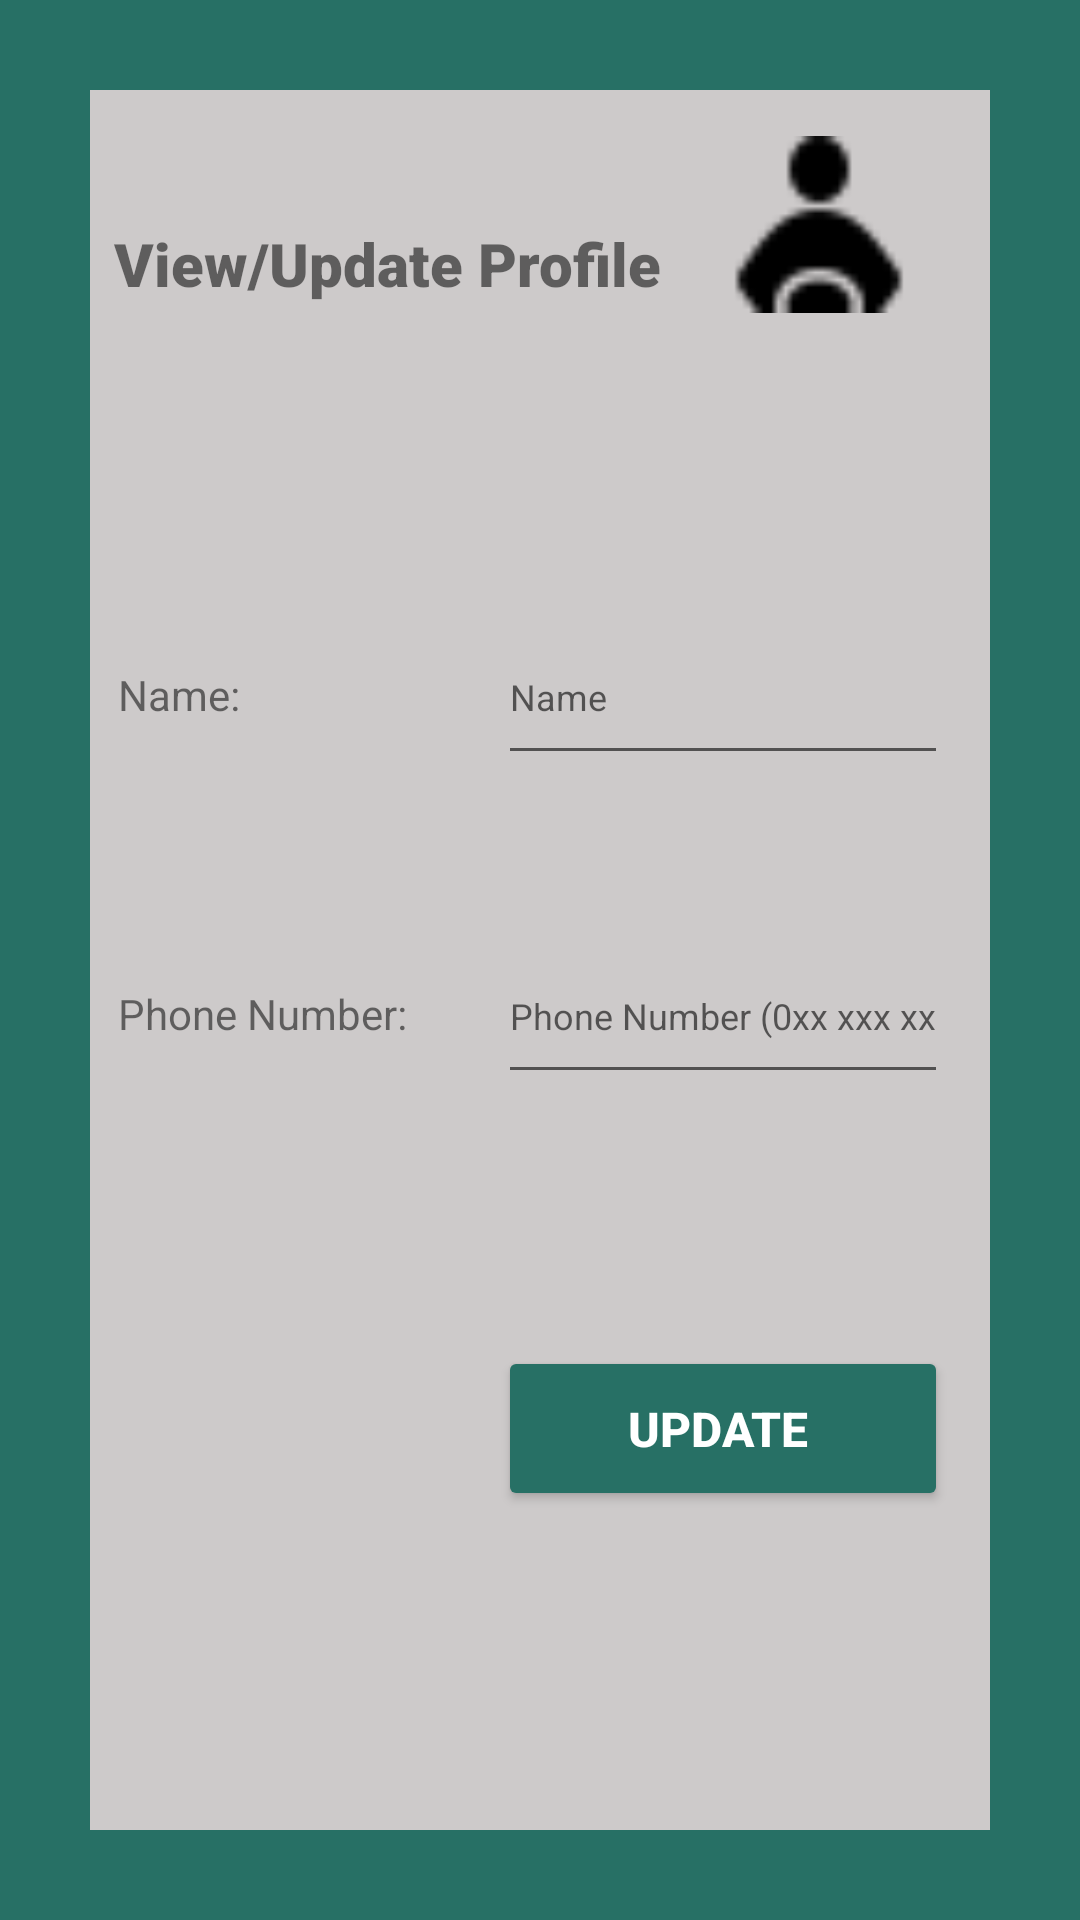

Where to tap for icons on this 1080×1920 app screen, as (x=x, y=y):
driver: (x=819, y=224)
